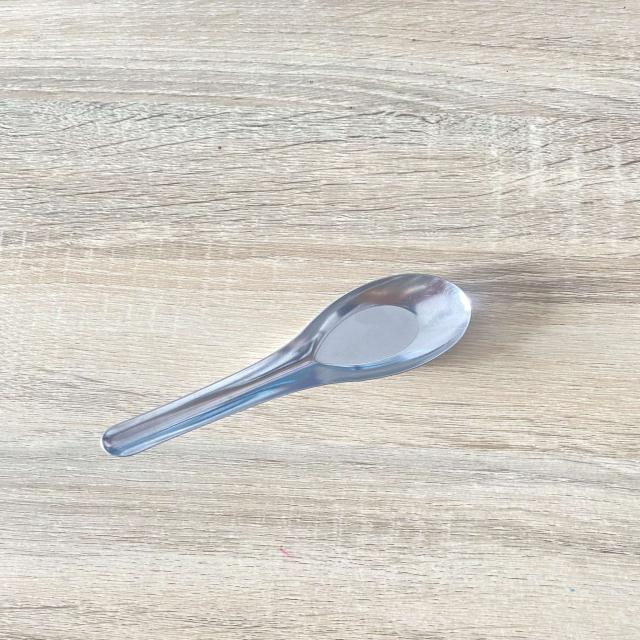short-spoon: (96, 266, 482, 460)
